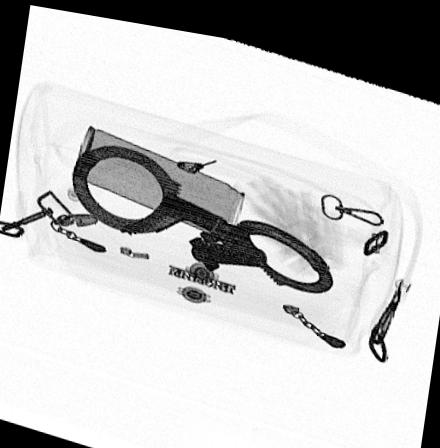HandCuffs: (71, 138, 335, 284)
